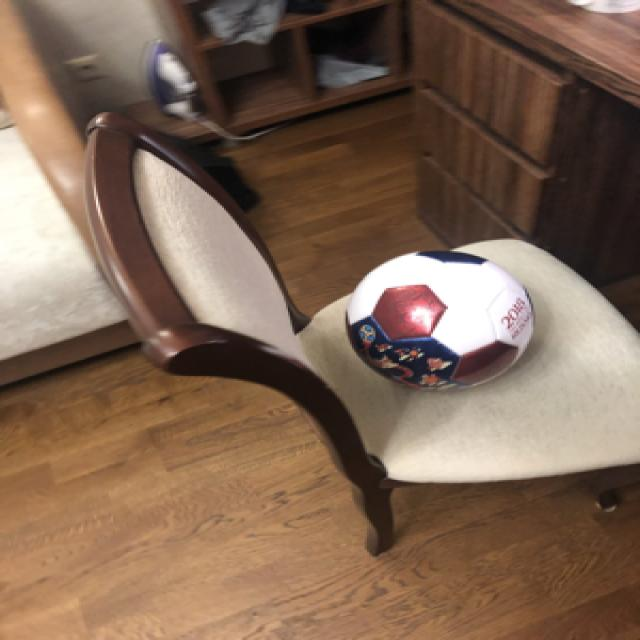soccer_ball: (339, 243, 536, 394)
